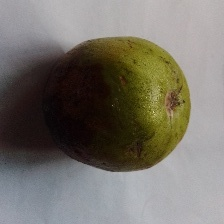guava: (58, 52, 194, 187)
